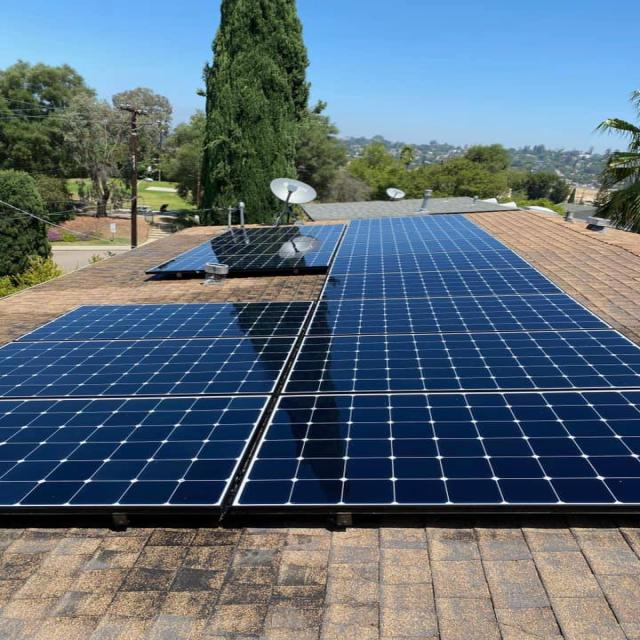clean-solar-panel: (242, 254, 638, 505), (3, 302, 312, 504)
